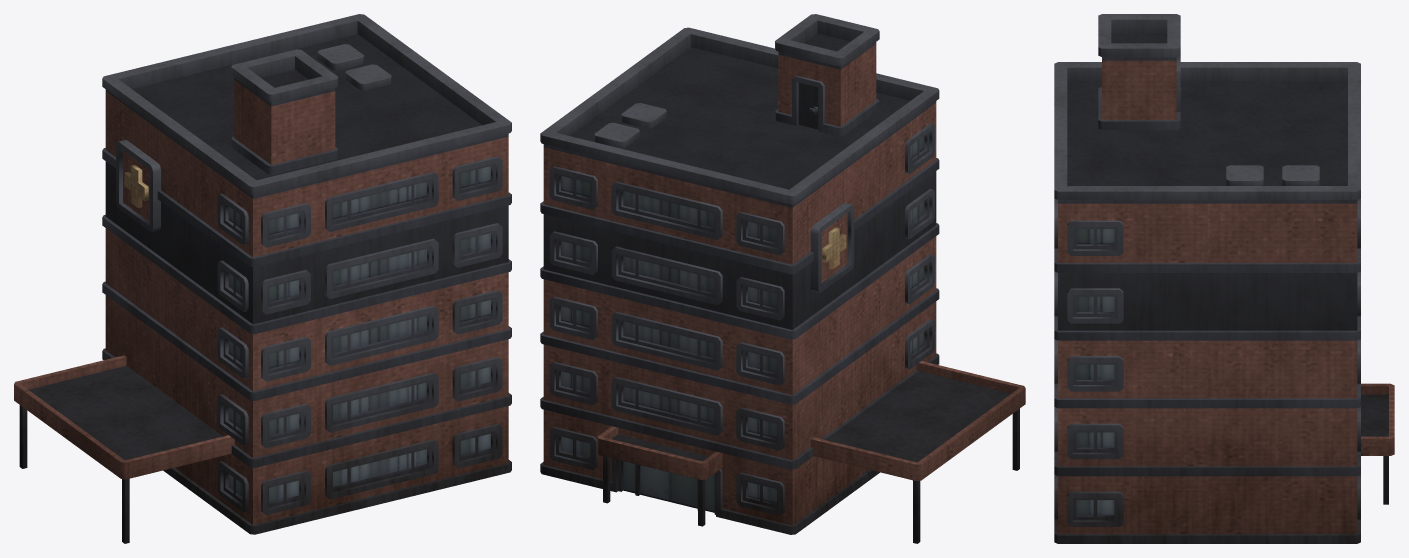
The model's file is building-n-brown.glb.
The picture shows the model from 3 angles, left to right: view 1: azimuth 30°, elevation 25°; view 2: azimuth 150°, elevation 25°; view 3: azimuth 270°, elevation 25°; orthographic projection. The views are drawn at different scales.
Parts seen in each view (by area): view 1: building-n; view 2: building-n; view 3: building-n.
Boxes of the visible parts, x1,y1,x2,y2 form: building-n: (14, 14, 511, 543); building-n: (540, 14, 1025, 543); building-n: (1054, 14, 1394, 543).
Bounding box in the file's own units: 2.32 × 2.48 × 1.82.
Materials: 1 (1 with a texture image).
